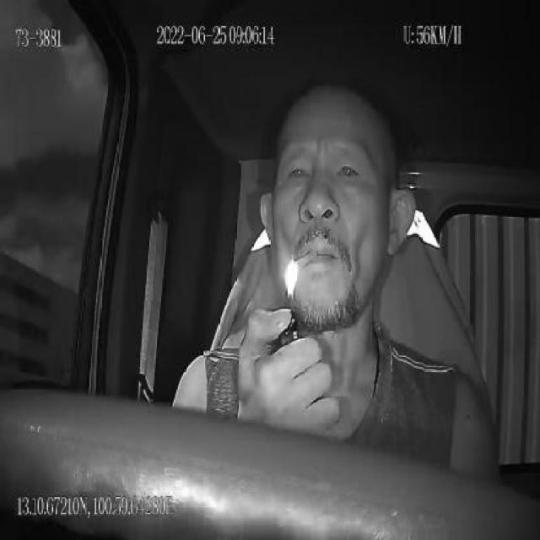smoking: (286, 249, 317, 278)
